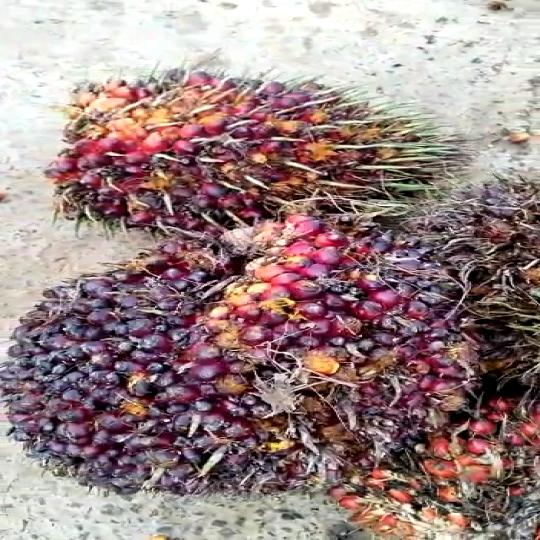masak: (19, 217, 473, 521), (41, 72, 464, 236)
